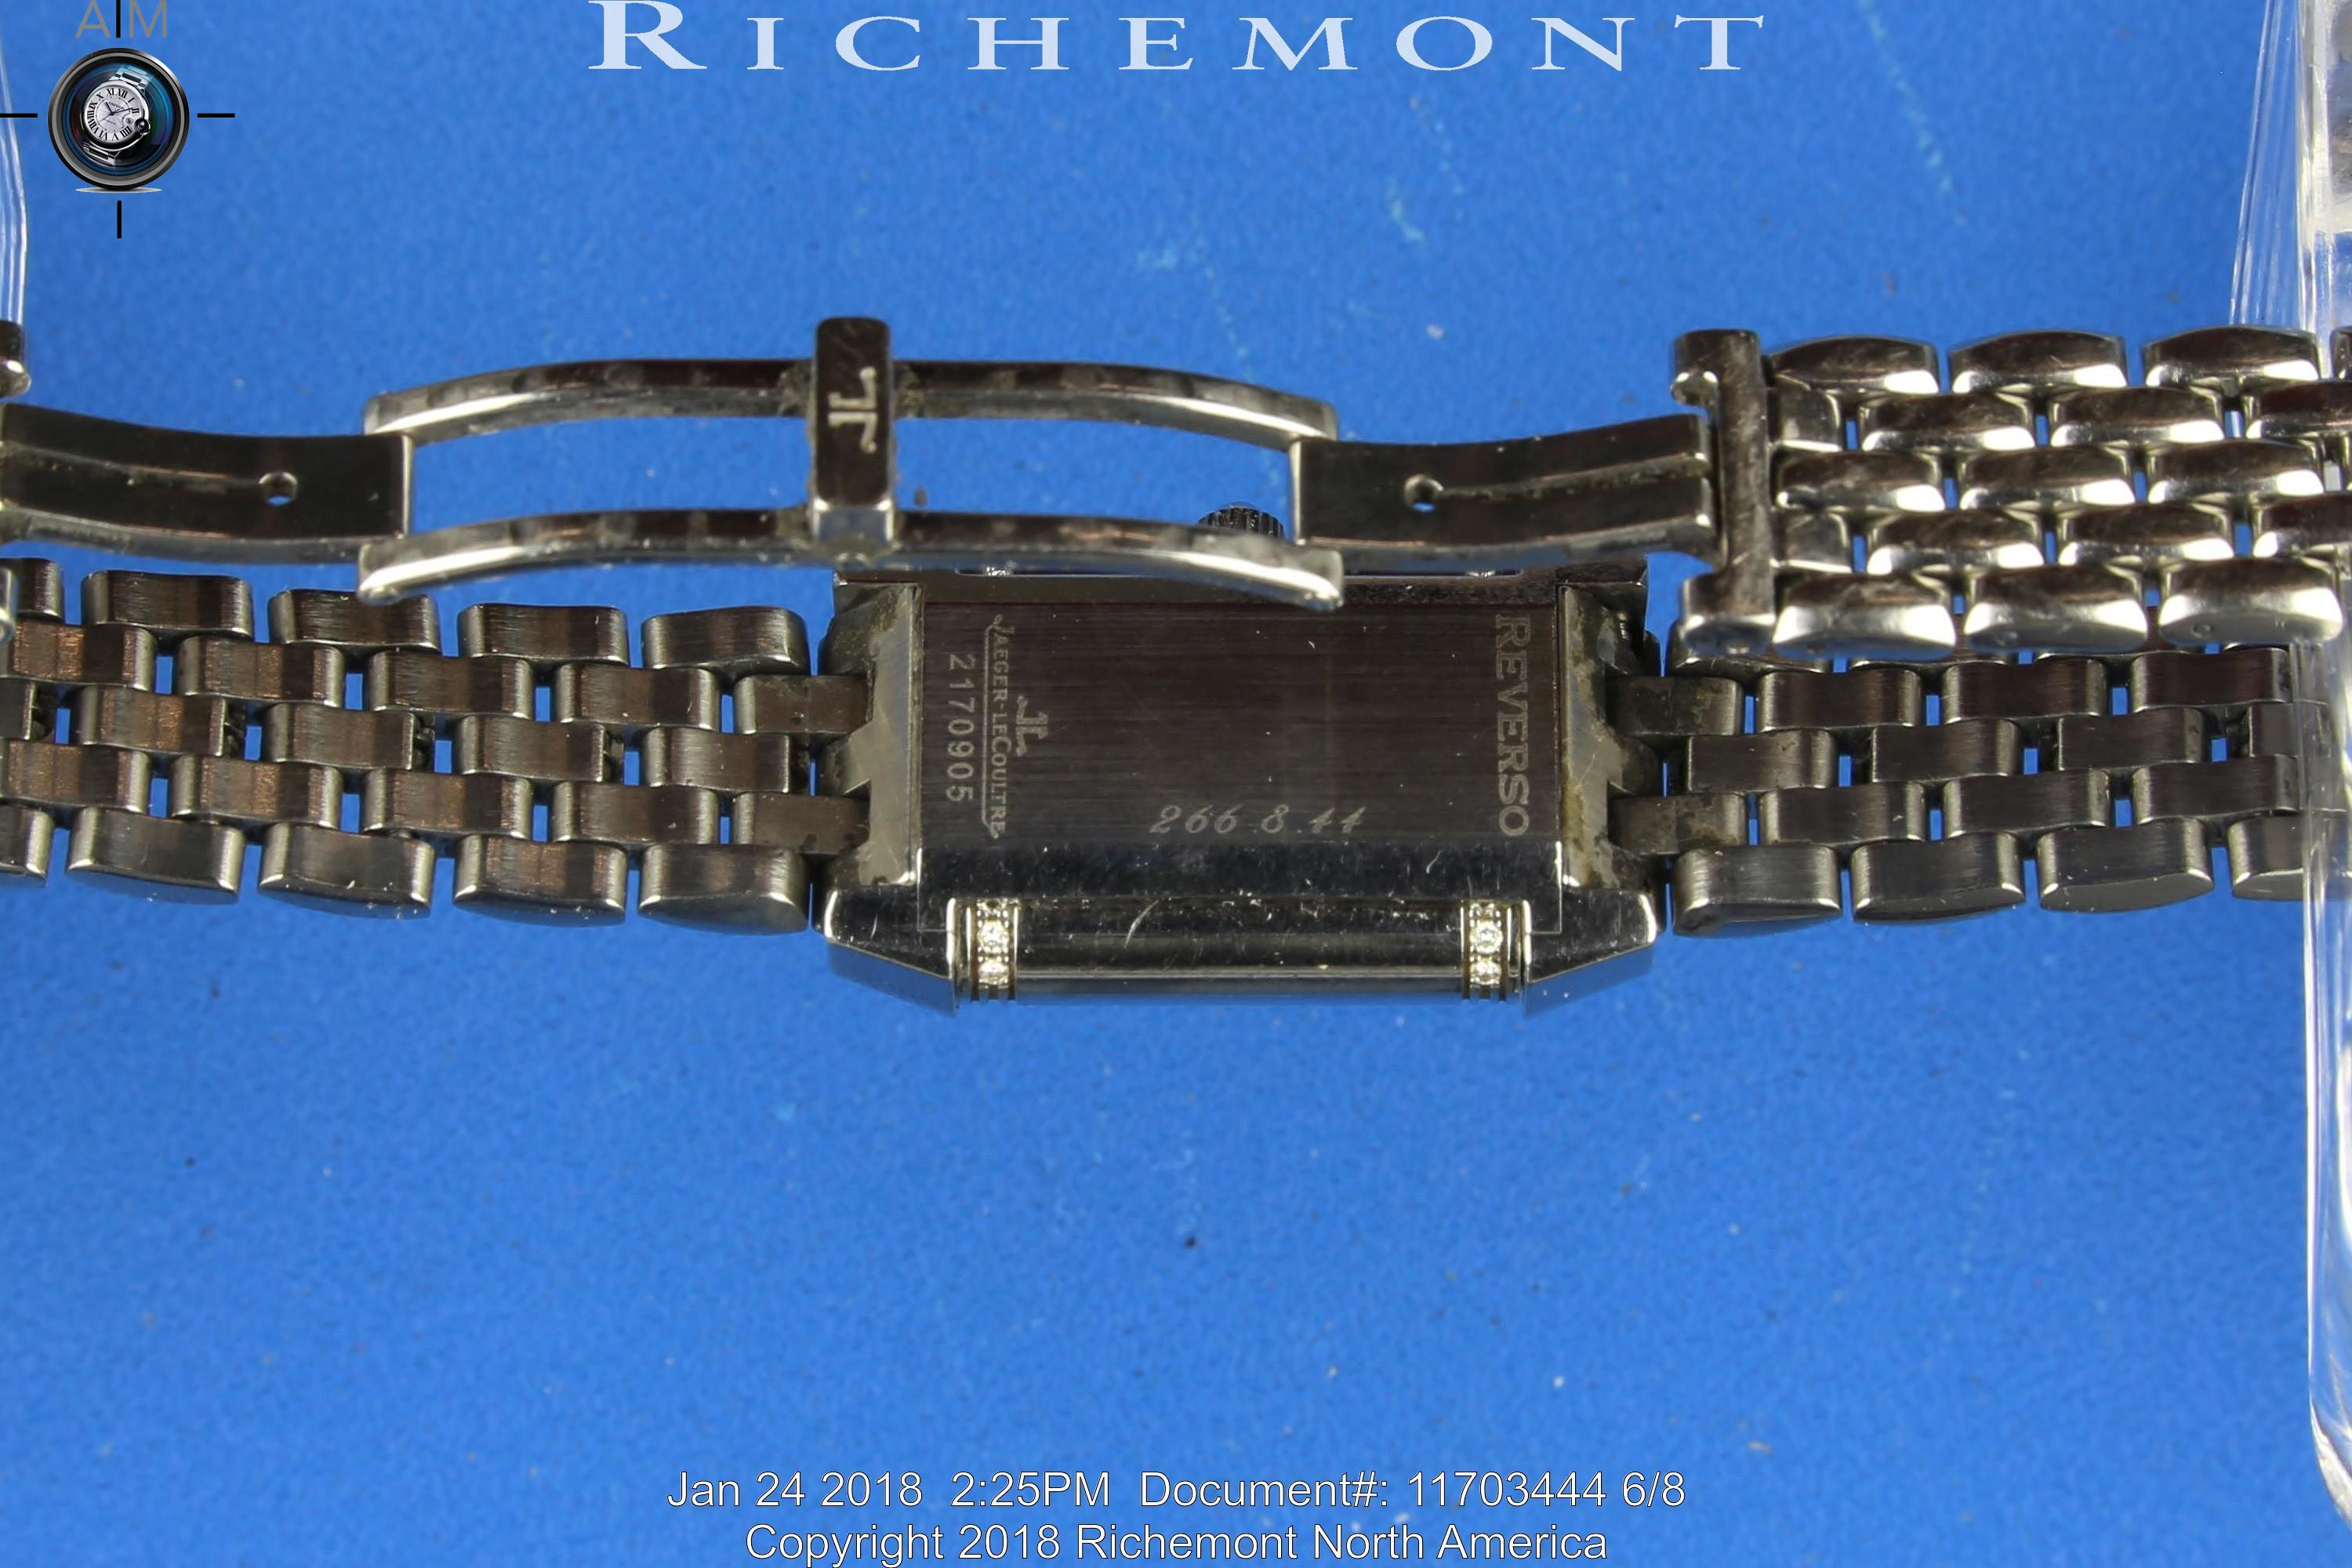Watch Back Case: (831, 567, 1647, 1017)
